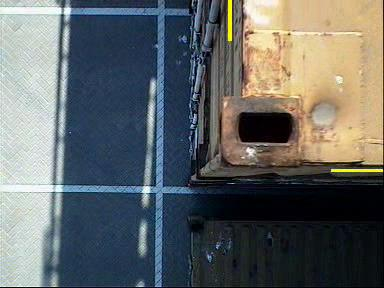groundmarker_2: (134, 164, 188, 194), (136, 185, 189, 214), (130, 7, 183, 36)
